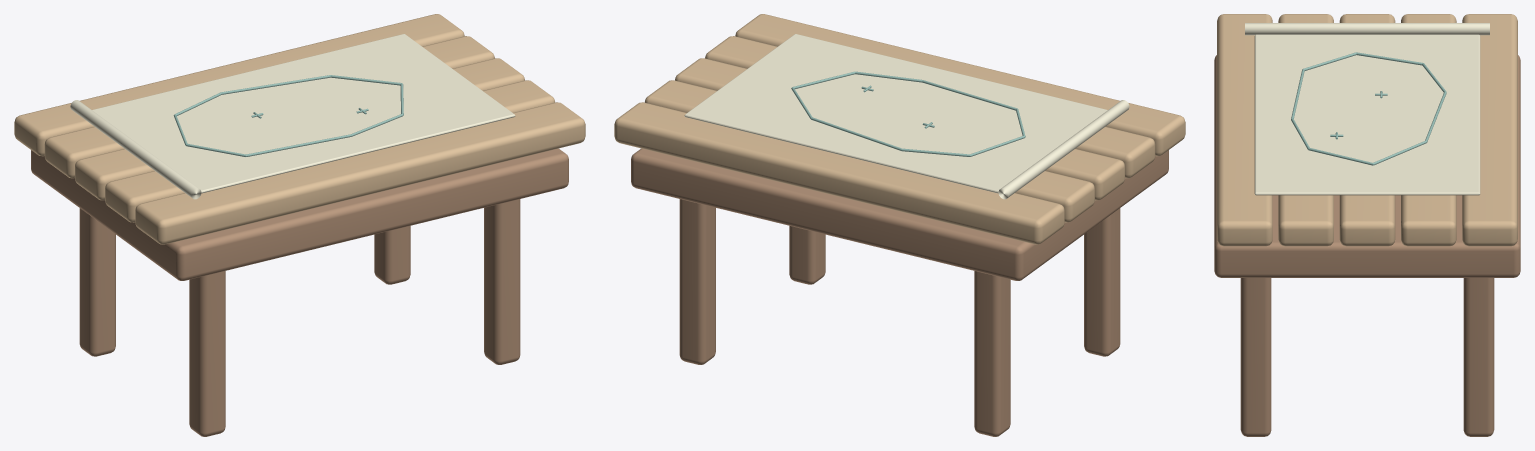
File: MapTable.fbx
The picture shows the model from 3 angles, left to right: view 1: azimuth 30°, elevation 25°; view 2: azimuth 150°, elevation 25°; view 3: azimuth 270°, elevation 25°; orthographic projection.
Parts seen in each view (by area): view 1: MapTable; view 2: MapTable; view 3: MapTable.
Boxes of the visible parts, x1,y1,x2,y2 form: MapTable: (14, 14, 585, 436); MapTable: (614, 14, 1185, 436); MapTable: (1214, 14, 1520, 436).
Size of the model in its own units: 180 by 101 by 110.
